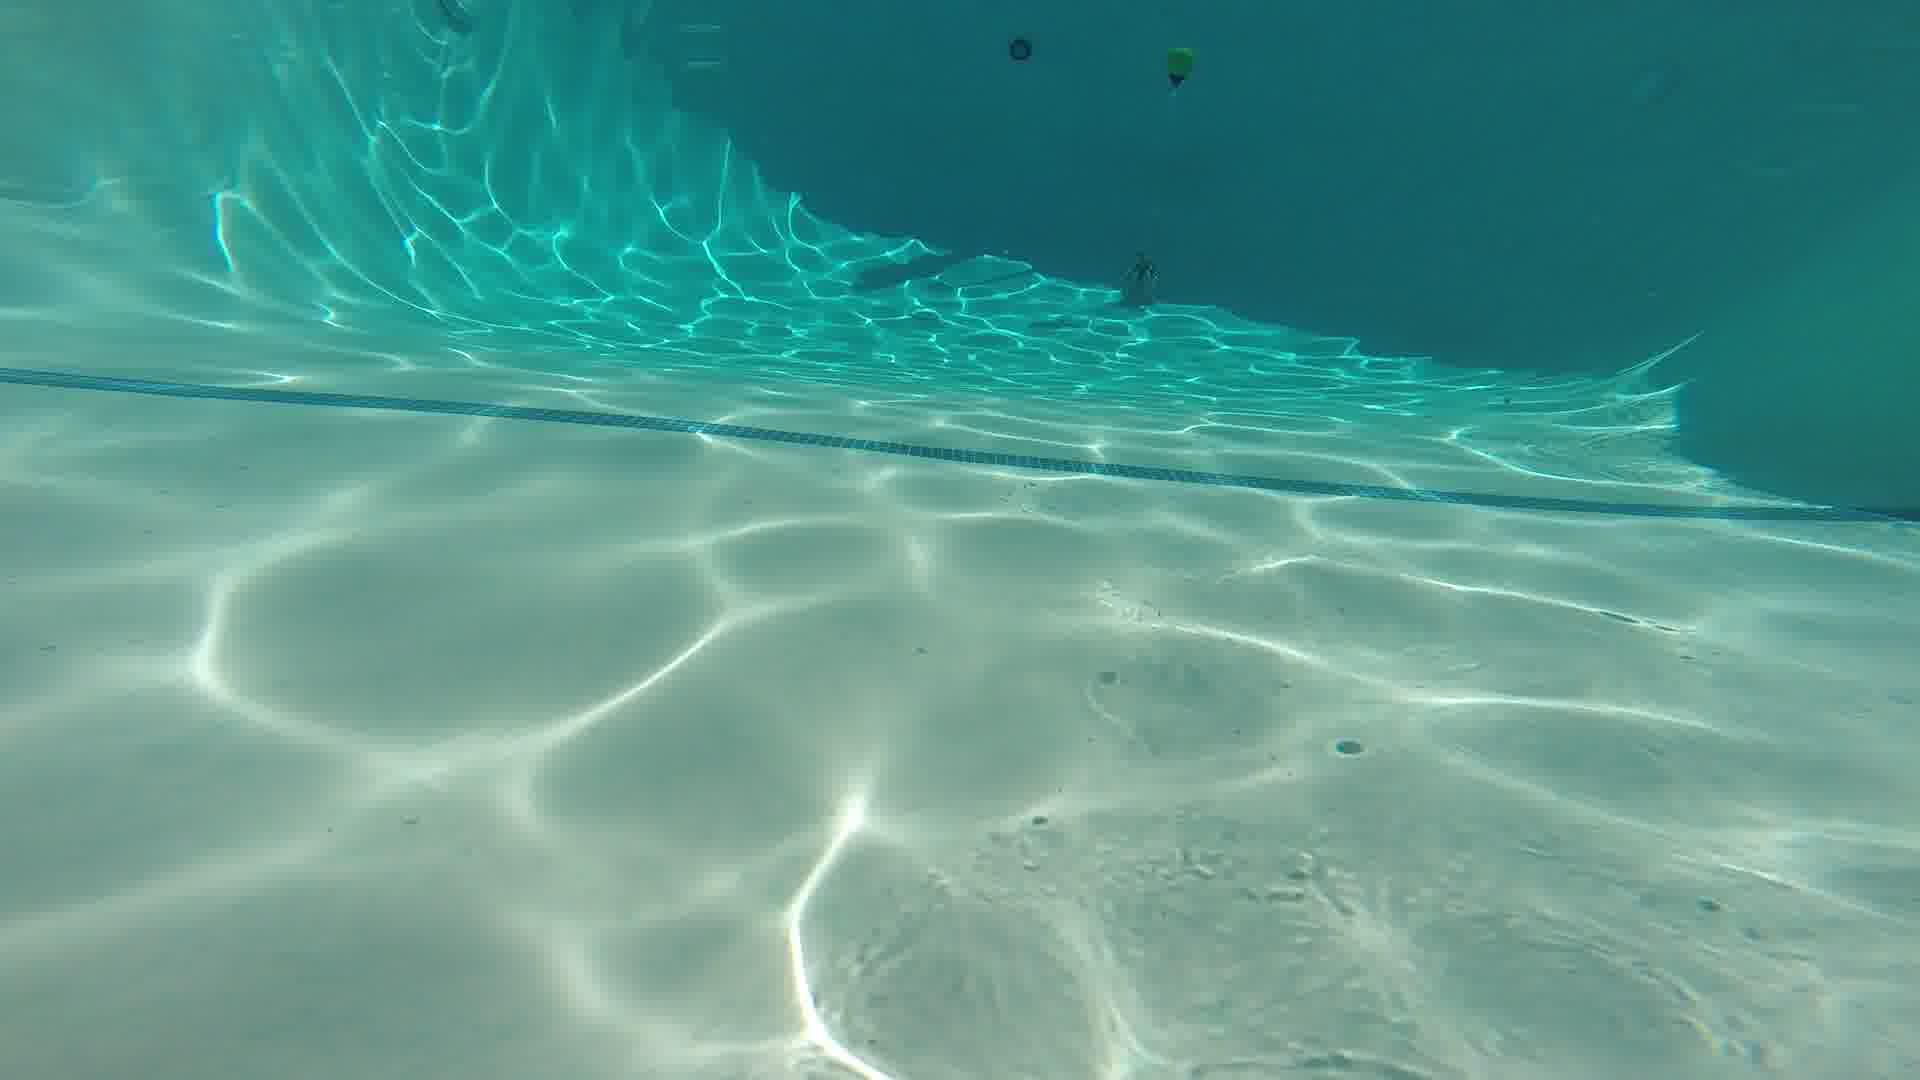yellow_buoy: (1156, 40, 1196, 96)
